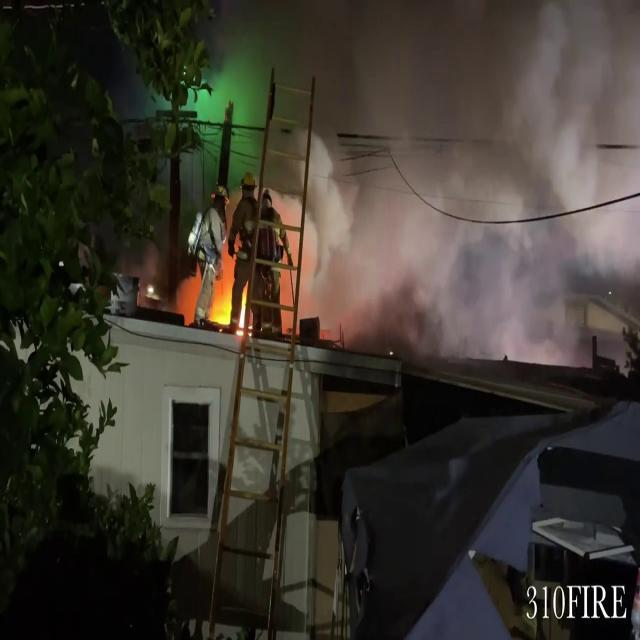Fire: (207, 235, 250, 337)
Smoke: (229, 0, 640, 347)
